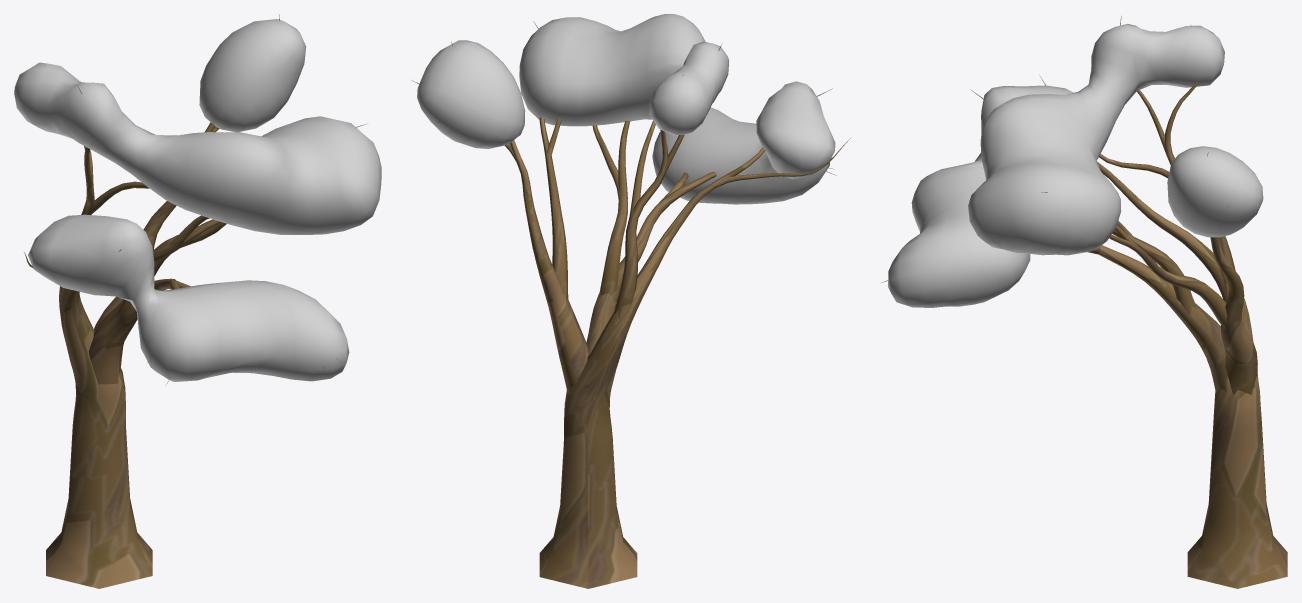
The model's file is SM_Trees_Wuyin_02.fbx.
3 views of the same model, side by side, from view 1: azimuth 30°, elevation 25°; view 2: azimuth 150°, elevation 25°; view 3: azimuth 270°, elevation 25° (orthographic). The views are drawn at different scales.
Visible parts, largest first — view 1: SM_Trees_Wuyin_02_leaves_LOD0, SM_Trees_Wuyin_02_Bark_LOD0; view 2: SM_Trees_Wuyin_02_leaves_LOD0, SM_Trees_Wuyin_02_Bark_LOD0; view 3: SM_Trees_Wuyin_02_leaves_LOD0, SM_Trees_Wuyin_02_Bark_LOD0.
Part boxes in pixels (box(x1,y1,x2,y2)): SM_Trees_Wuyin_02_leaves_LOD0: box(14, 19, 381, 381); SM_Trees_Wuyin_02_Bark_LOD0: box(19, 14, 367, 588); SM_Trees_Wuyin_02_leaves_LOD0: box(417, 14, 835, 204); SM_Trees_Wuyin_02_Bark_LOD0: box(411, 21, 850, 588); SM_Trees_Wuyin_02_leaves_LOD0: box(888, 24, 1263, 307); SM_Trees_Wuyin_02_Bark_LOD0: box(881, 16, 1287, 588).
Size of what is drawn, in the model's own units: 778 by 1062 by 766.
